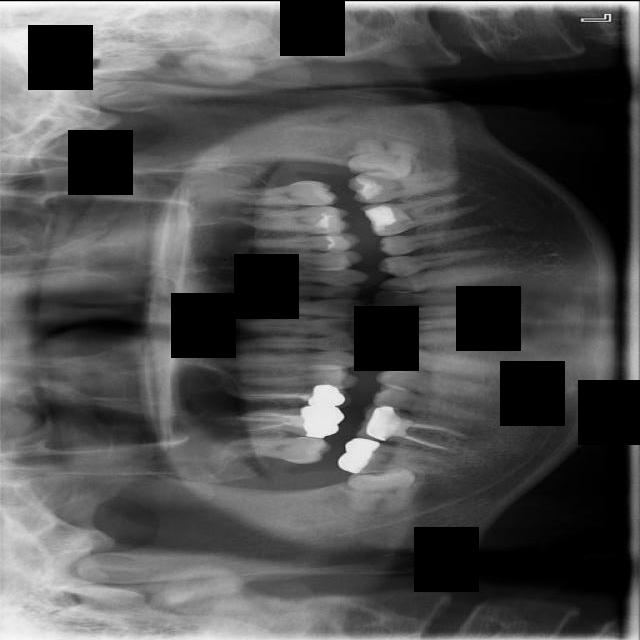52: (350, 396, 411, 450), (359, 190, 417, 242), (336, 430, 390, 481), (345, 169, 399, 205), (294, 404, 348, 438), (300, 203, 352, 235), (307, 227, 362, 252), (296, 383, 352, 407)
73: (389, 410, 470, 455), (207, 406, 302, 440), (226, 387, 305, 406), (582, 40, 598, 52)
BioHorizons Implant: (221, 179, 338, 205)
Biomet 3i Implant: (346, 133, 416, 182)
Blue Sky Bio Implant: (347, 169, 459, 203)
Caries: (213, 435, 332, 463)
Implant: (336, 433, 462, 492)
Keystone Dental Implant: (346, 464, 416, 516)
